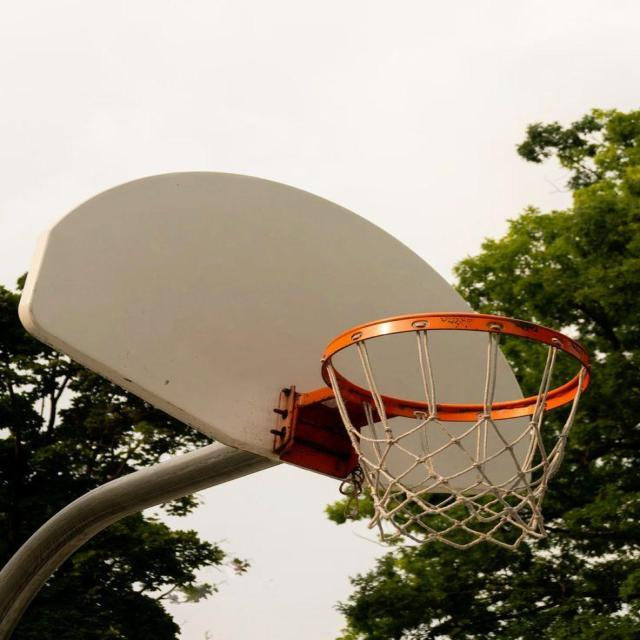hoop: (322, 314, 589, 540)
